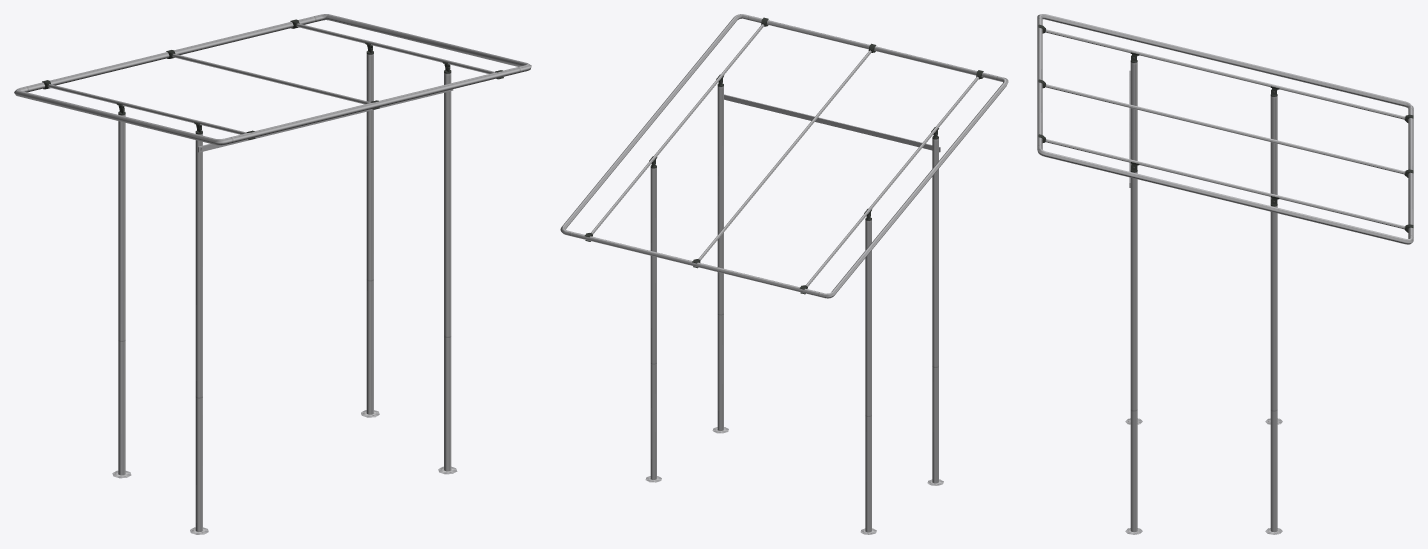
File: jsf_4P_s01_Leg01.fbx
3 renders of one model, left to right at view 1: azimuth 30°, elevation 25°; view 2: azimuth 150°, elevation 25°; view 3: azimuth 270°, elevation 25°, orthographic. The views are drawn at different scales.
Parts seen in each view (by area): view 1: jsf_4P_s01_Leg01; view 2: jsf_4P_s01_Leg01; view 3: jsf_4P_s01_Leg01.
Part boxes in pixels (x1,y1,x2,y2): jsf_4P_s01_Leg01: (14, 14, 531, 534); jsf_4P_s01_Leg01: (560, 14, 1008, 534); jsf_4P_s01_Leg01: (1037, 14, 1413, 534).
Size of the model in its own units: 184 by 243 by 210.
